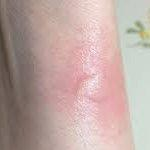Mosquito: (77, 64, 111, 102)
